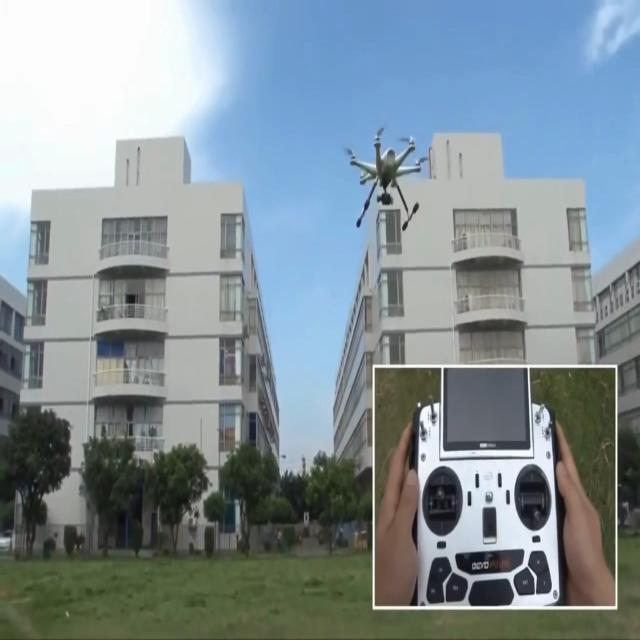drone: (344, 126, 427, 231)
